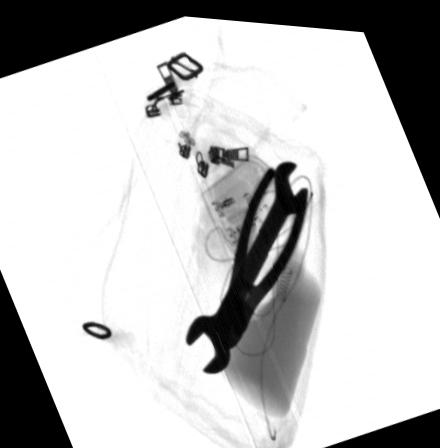Pliers: (210, 162, 310, 349)
Wrench: (184, 156, 310, 375)
